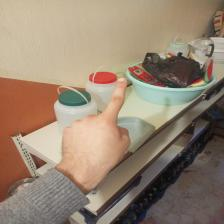one: (58, 75, 136, 177)
